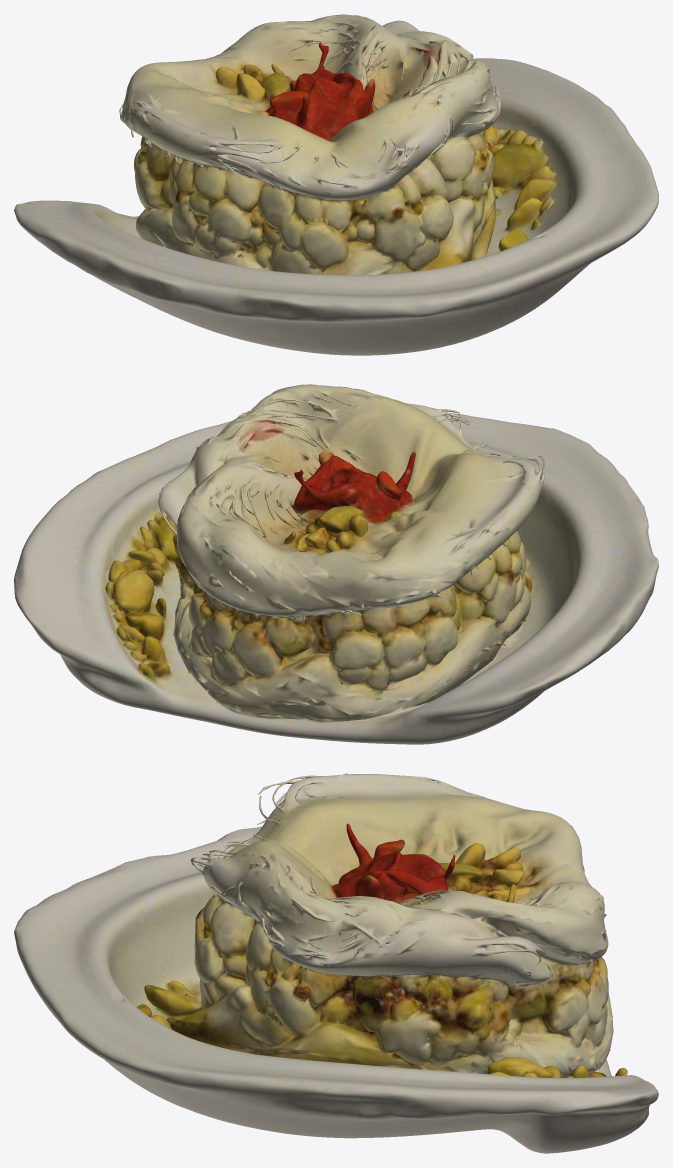
The model's file is plato-postre.glb.
3 renders of one model, top to bottom at view 1: azimuth 30°, elevation 25°; view 2: azimuth 150°, elevation 25°; view 3: azimuth 270°, elevation 25°, orthographic. The views are drawn at different scales.
Visible parts, largest first — view 1: tripo_node_42157041-7cbc-4327-9d59-2af55ccb707f; view 2: tripo_node_42157041-7cbc-4327-9d59-2af55ccb707f; view 3: tripo_node_42157041-7cbc-4327-9d59-2af55ccb707f.
Part boxes in pixels (<box>): tripo_node_42157041-7cbc-4327-9d59-2af55ccb707f: <box>14,14,658,355</box>; tripo_node_42157041-7cbc-4327-9d59-2af55ccb707f: <box>14,384,658,744</box>; tripo_node_42157041-7cbc-4327-9d59-2af55ccb707f: <box>14,773,658,1153</box>.
Bounding box in the file's own units: 0.9794 × 0.3807 × 0.9219.
1 material, 1 textured.
